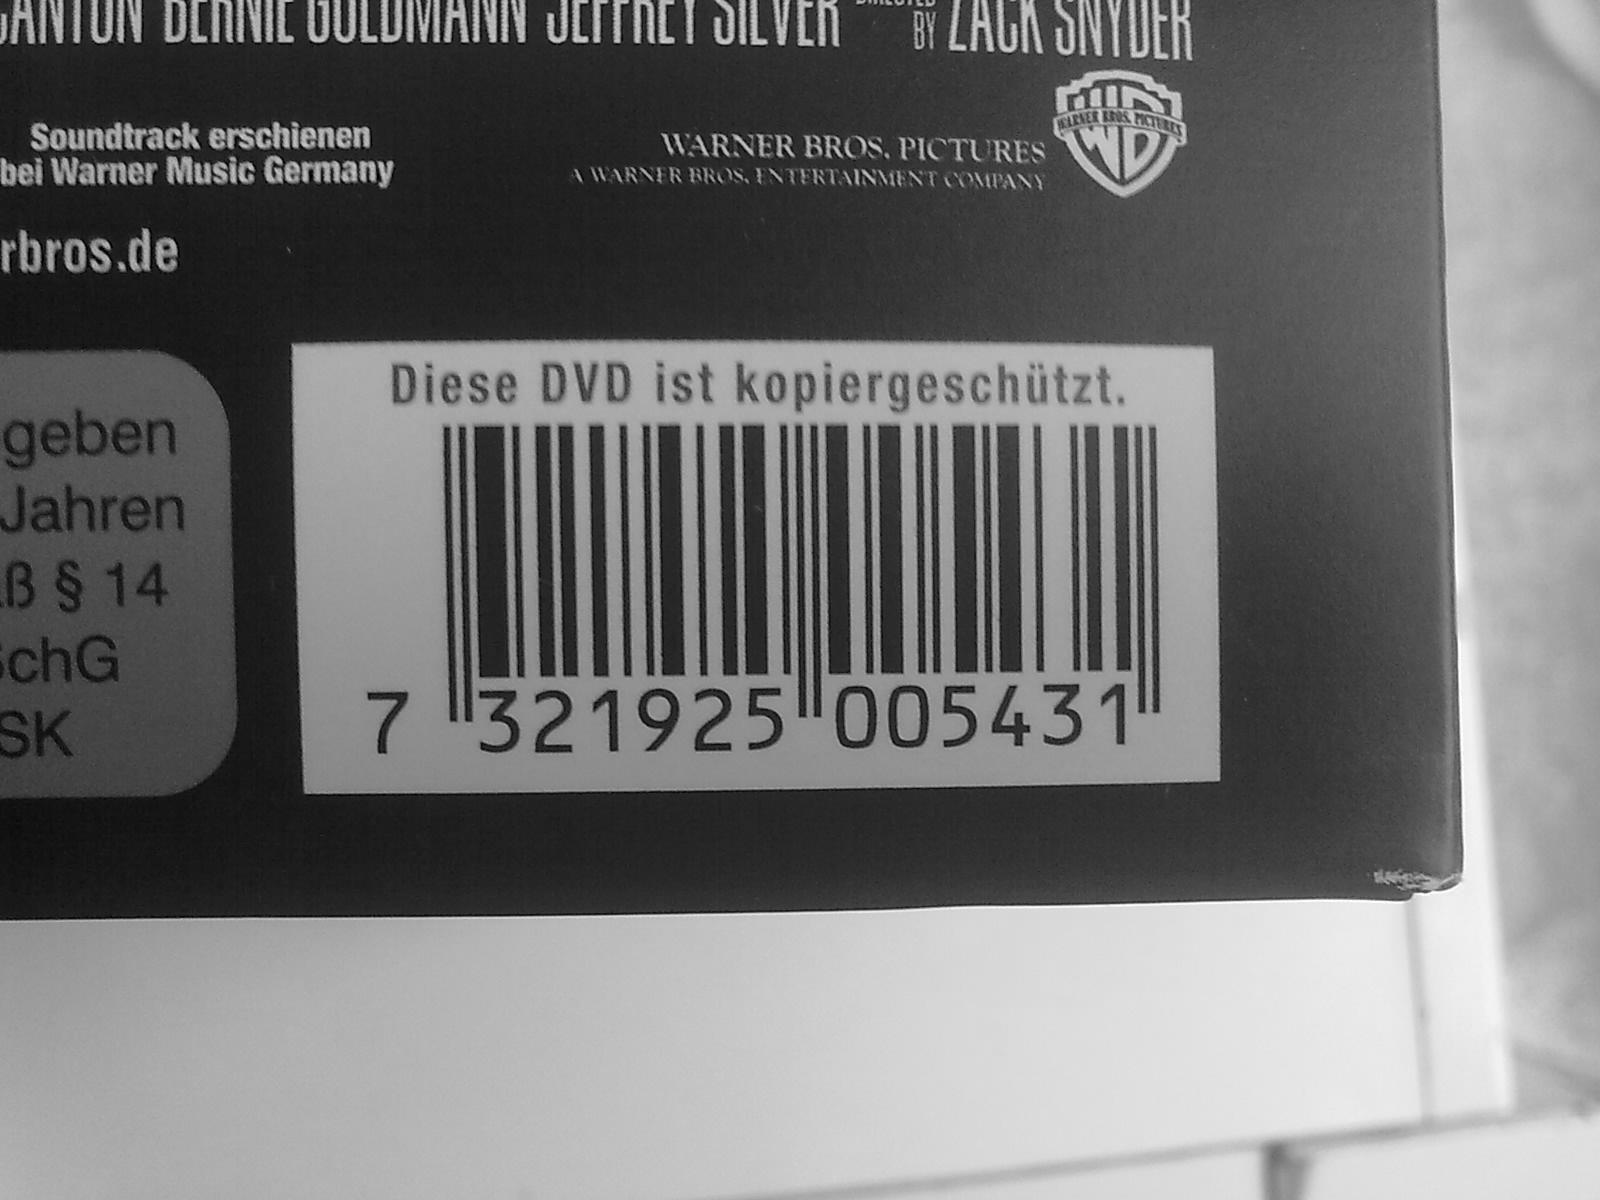Barcode: (335, 328, 1186, 805)
